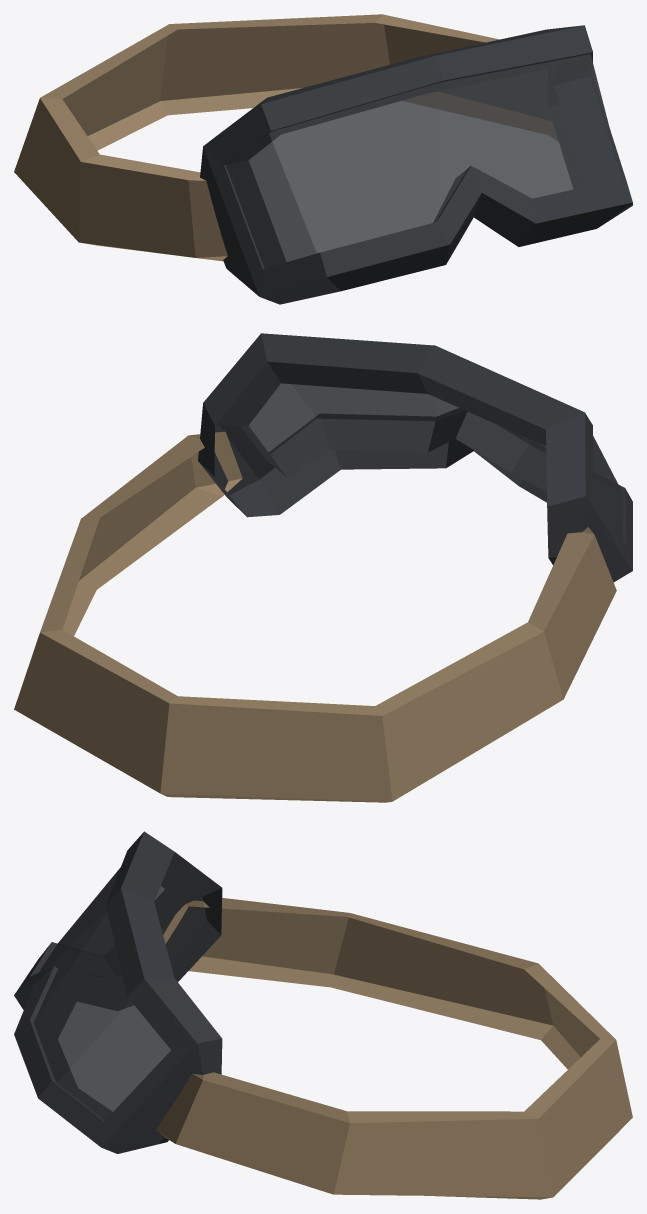
The model's file is SM_Chr_Attach_Helmet_01_Goggles_02.fbx.
3 renders of one model, top to bottom at view 1: azimuth 30°, elevation 25°; view 2: azimuth 150°, elevation 25°; view 3: azimuth 270°, elevation 25°, orthographic. The views are drawn at different scales.
Visible parts, largest first — view 1: SM_Chr_Attach_Helmet_01_Goggles_02, SM_Chr_Attach_Helmet_01_Goggles_02_Glass; view 2: SM_Chr_Attach_Helmet_01_Goggles_02, SM_Chr_Attach_Helmet_01_Goggles_02_Glass; view 3: SM_Chr_Attach_Helmet_01_Goggles_02, SM_Chr_Attach_Helmet_01_Goggles_02_Glass.
Boxes of the visible parts, x1,y1,x2,y2 form: SM_Chr_Attach_Helmet_01_Goggles_02: [14, 14, 632, 304]; SM_Chr_Attach_Helmet_01_Goggles_02_Glass: [226, 54, 622, 268]; SM_Chr_Attach_Helmet_01_Goggles_02: [14, 333, 632, 802]; SM_Chr_Attach_Helmet_01_Goggles_02_Glass: [232, 383, 623, 540]; SM_Chr_Attach_Helmet_01_Goggles_02: [14, 831, 632, 1199]; SM_Chr_Attach_Helmet_01_Goggles_02_Glass: [33, 867, 170, 1120].
Size of the model in its own units: 30.49 by 15.36 by 36.22.
